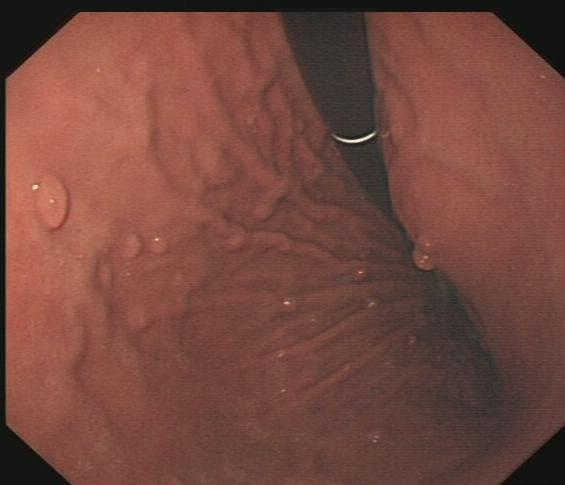Polyp: (28, 168, 82, 236)
